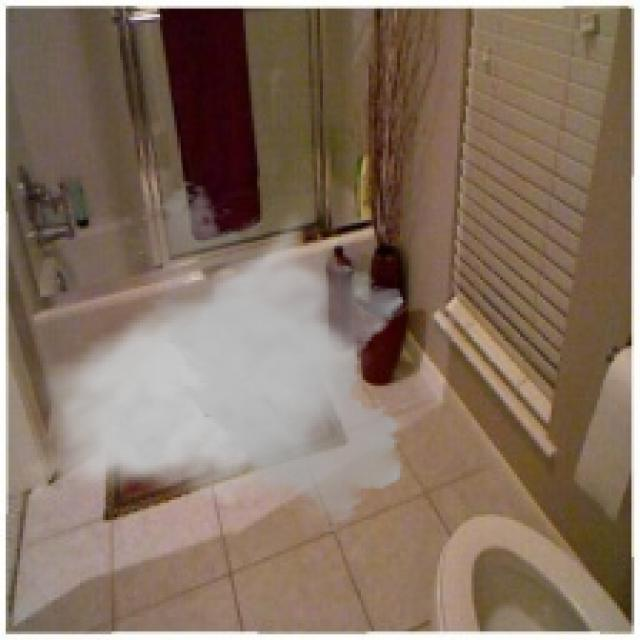Smoke: (26, 177, 414, 534)
